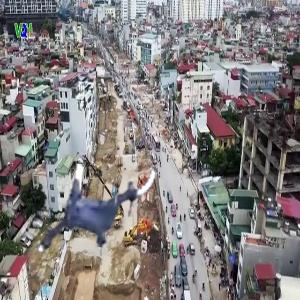drone: (35, 139, 164, 268)
